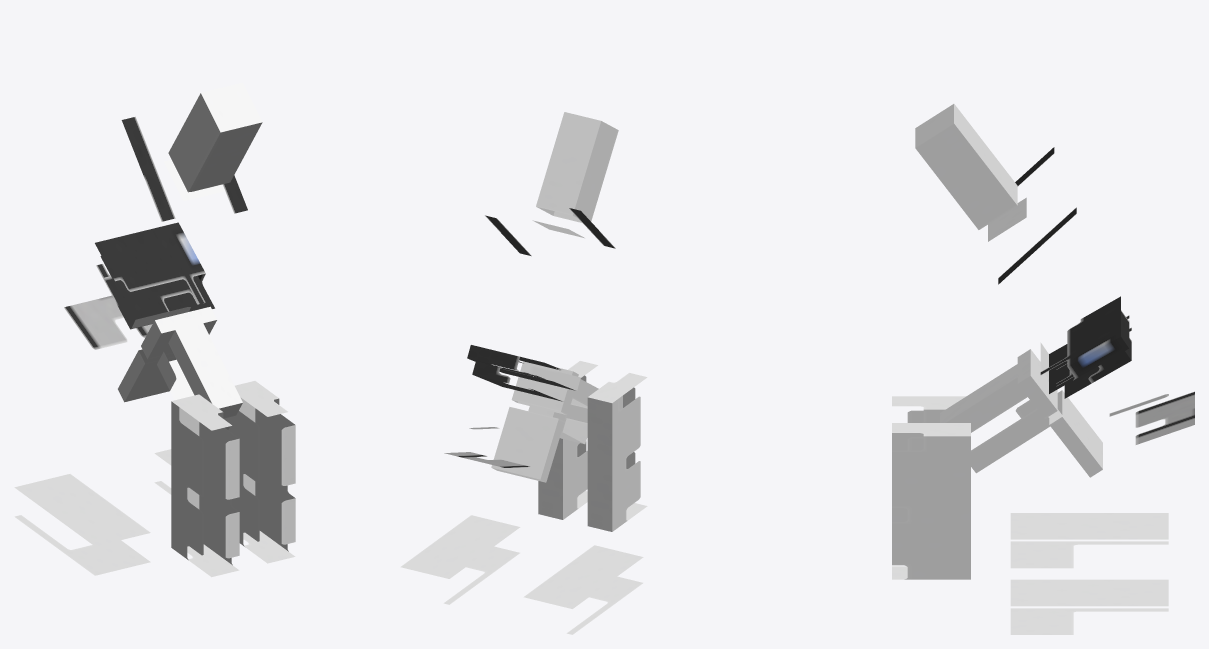
Rendered from optical_microscope.obj.
The picture shows the model from 3 angles, left to right: view 1: azimuth 30°, elevation 25°; view 2: azimuth 150°, elevation 25°; view 3: azimuth 270°, elevation 25°; orthographic projection. The views are drawn at different scales.
Size of the model in its own units: 0.2625 by 0.7342 by 0.5359.
